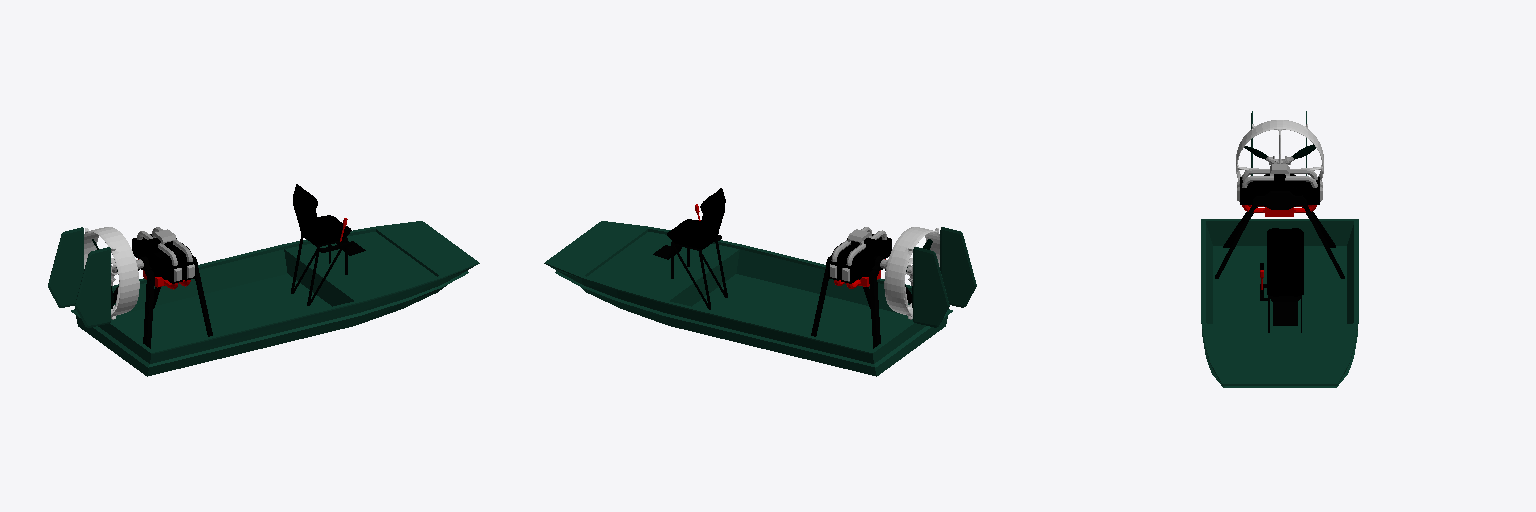
Rendered from airboat.obj.
3 views of the same model, side by side, from view 1: azimuth 30°, elevation 25°; view 2: azimuth 150°, elevation 25°; view 3: azimuth 270°, elevation 25° (orthographic).
Visible parts, largest first — view 1: boat, rudder, shroud, seat, emounts, stand, engine, intakes, cylinders; view 2: boat, rudder, shroud, seat, emounts, stand, engine, intakes, cylinders; view 3: boat, seat, emounts, shroud, stand, intakes, engine, cylinders.
Boxes of the visible parts, x1=… form: boat: x1=71, y1=221, x2=479, y2=376; rudder: x1=48, y1=227, x2=110, y2=327; shroud: x1=84, y1=227, x2=139, y2=319; seat: x1=293, y1=184, x2=351, y2=245; emounts: x1=113, y1=243, x2=212, y2=348; stand: x1=291, y1=234, x2=365, y2=305; engine: x1=139, y1=238, x2=185, y2=279; intakes: x1=137, y1=227, x2=192, y2=265; cylinders: x1=132, y1=234, x2=195, y2=283; boat: x1=544, y1=221, x2=952, y2=376; rudder: x1=913, y1=227, x2=976, y2=327; shroud: x1=884, y1=227, x2=939, y2=319; seat: x1=667, y1=188, x2=725, y2=249; emounts: x1=811, y1=243, x2=911, y2=348; stand: x1=653, y1=235, x2=727, y2=309; engine: x1=838, y1=238, x2=884, y2=279; intakes: x1=831, y1=227, x2=886, y2=265; cylinders: x1=828, y1=234, x2=891, y2=283; boat: x1=1201, y1=219, x2=1358, y2=387; seat: x1=1267, y1=228, x2=1303, y2=296; emounts: x1=1215, y1=191, x2=1344, y2=278; shroud: x1=1236, y1=120, x2=1323, y2=180; stand: x1=1260, y1=284, x2=1301, y2=332; intakes: x1=1242, y1=164, x2=1317, y2=187; engine: x1=1254, y1=174, x2=1305, y2=208; cylinders: x1=1240, y1=177, x2=1319, y2=204.
Size of the model in its own units: 16.23 by 4.8 by 5.68.